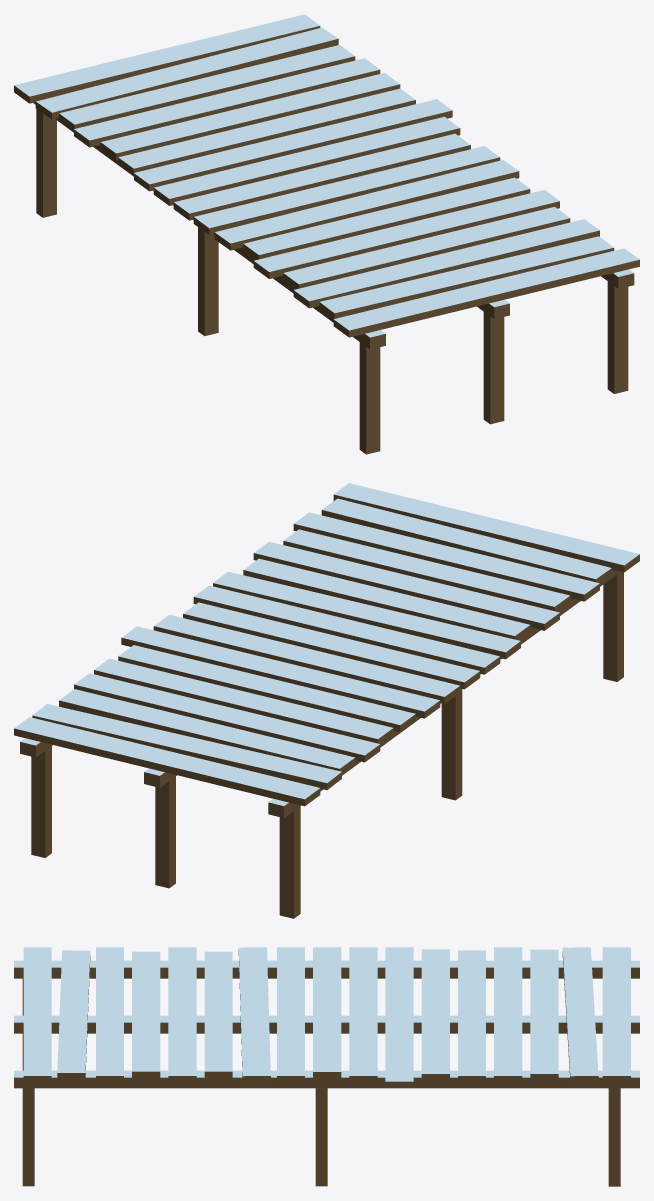
File: model_polytope_snow_wood_deck.fbx
3 renders of one model, top to bottom at view 1: azimuth 30°, elevation 25°; view 2: azimuth 150°, elevation 25°; view 3: azimuth 270°, elevation 25°, orthographic. The views are drawn at different scales.
Visible parts, largest first — view 1: model__olytope_snow_wood_deck; view 2: model__olytope_snow_wood_deck; view 3: model__olytope_snow_wood_deck.
Boxes of the visible parts, bbox=[...] form: model__olytope_snow_wood_deck: bbox=[14, 14, 639, 454]; model__olytope_snow_wood_deck: bbox=[14, 483, 639, 918]; model__olytope_snow_wood_deck: bbox=[14, 947, 639, 1186].
Size of the model in its own units: 428 by 172 by 844.
Materials: 1 (1 with a texture image).
